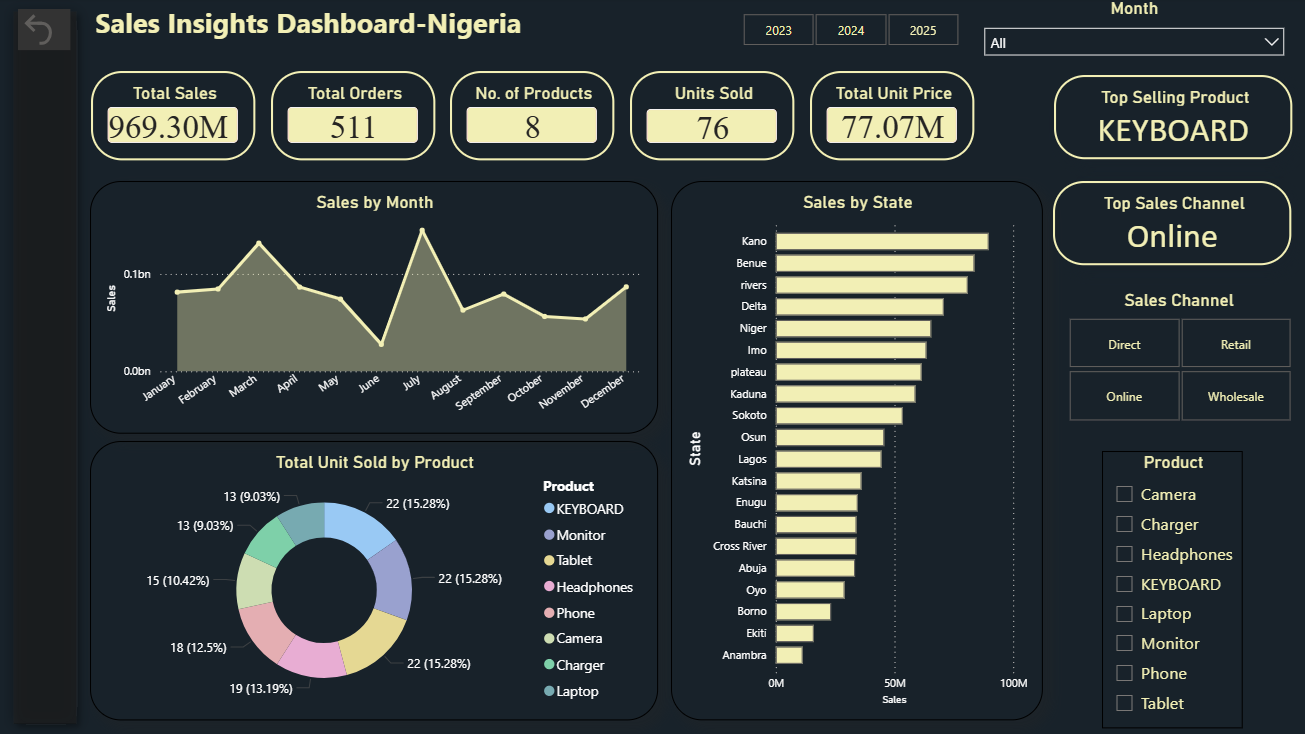

What the dashboard file says about the page in this screenshot:
{"tool":"powerbi","page":{"name":"Sales Report","canvas":[1280,720],"ordinal":0},"visuals":[{"type":"shape","box":[0,0,87.5,719.8],"z":0},{"type":"cardVisual","title":"Total Sales","fields":{"Data":["Measure.Sales"]},"box":[88.5,71.3,159.5,86.6],"z":1000},{"type":"cardVisual","title":"Total Orders","fields":{"Data":["Measure.Orders"]},"box":[263.4,70.9,159.6,86.9],"z":2000},{"type":"cardVisual","title":"No. of Products","fields":{"Data":["Measure.Products"]},"box":[438.3,71,159.6,86.9],"z":3000},{"type":"cardVisual","title":" Units Sold","fields":{"Data":["Measure.Total Unit Sold"]},"box":[613.3,71.1,159.6,86.9],"z":4000},{"type":"cardVisual","title":"Total Unit Price","fields":{"Data":["Measure.Total Unit Price"]},"box":[788.3,71.2,159.6,86.9],"z":5000},{"type":"textbox","box":[87.8,0,450.4,63],"z":6000},{"type":"slicer","fields":{"Values":["nigeria_messy_sales_dataset.Year"]},"box":[697.9,8.8,258.9,43.8],"z":7000},{"type":"lineChart","title":"Sales by Month","fields":{"Category":["nigeria_messy_sales_dataset.Month Name"],"Y":["Measure.Sales"]},"box":[87.6,178.1,552.9,246.3],"z":8000},{"type":"donutChart","fields":{"Category":["nigeria_messy_sales_dataset.Product"],"Y":["Measure.Total Unit Sold"]},"box":[87.6,431.2,552.9,271.6],"z":9000},{"type":"clusteredBarChart","fields":{"Category":["nigeria_messy_sales_dataset.State"],"Y":["Measure.Sales"]},"box":[653.1,178.1,362.1,524.7],"z":10000},{"type":"slicer","title":"Sales Channel","fields":{"Values":["nigeria_messy_sales_dataset.Sales Channel"]},"box":[1015.3,284.6,265.1,133.9],"z":11000},{"type":"slicer","title":"Product","fields":{"Values":["nigeria_messy_sales_dataset.Product"]},"box":[1072.9,440.7,137.4,269.6],"z":12000},{"type":"slicer","title":"Month","fields":{"Values":["nigeria_messy_sales_dataset.Month Name"]},"box":[948.1,0,312.5,73],"z":13000},{"type":"card","title":"Top Selling Product","fields":{"Values":["Min(nigeria_messy_sales_dataset.Product)"]},"box":[1025.9,75.4,232.3,82.5],"z":14000},{"type":"card","title":"Top Sales Channel","fields":{"Values":["Min(nigeria_messy_sales_dataset.Sales Channel)"]},"box":[1025,178.2,232.3,81.6],"z":15000},{"type":"actionButton","box":[17.7,10.6,50.5,39.9],"z":16000}]}

Visuals, with their boxes in screenshot pixels (x1, y1, x2, y2), scaled from the page's 1280x720 canvas onto the 1305x734 screenshot:
shape: region(0, 0, 89, 733)
"Total Sales" cardVisual: region(90, 73, 253, 161)
"Total Orders" cardVisual: region(269, 72, 431, 161)
"No. of Products" cardVisual: region(447, 72, 610, 161)
" Units Sold" cardVisual: region(625, 72, 788, 161)
"Total Unit Price" cardVisual: region(804, 73, 966, 161)
textbox: region(90, 0, 549, 64)
slicer - nigeria_messy_sales_dataset.Year: region(712, 9, 975, 54)
"Sales by Month" lineChart: region(89, 182, 653, 433)
donutChart - nigeria_messy_sales_dataset.Product x Measure.Total Unit Sold: region(89, 440, 653, 716)
clusteredBarChart - nigeria_messy_sales_dataset.State x Measure.Sales: region(666, 182, 1035, 716)
"Sales Channel" slicer: region(1035, 290, 1304, 427)
"Product" slicer: region(1094, 449, 1234, 724)
"Month" slicer: region(967, 0, 1285, 74)
"Top Selling Product" card: region(1046, 77, 1283, 161)
"Top Sales Channel" card: region(1045, 182, 1282, 265)
actionButton: region(18, 11, 70, 51)
